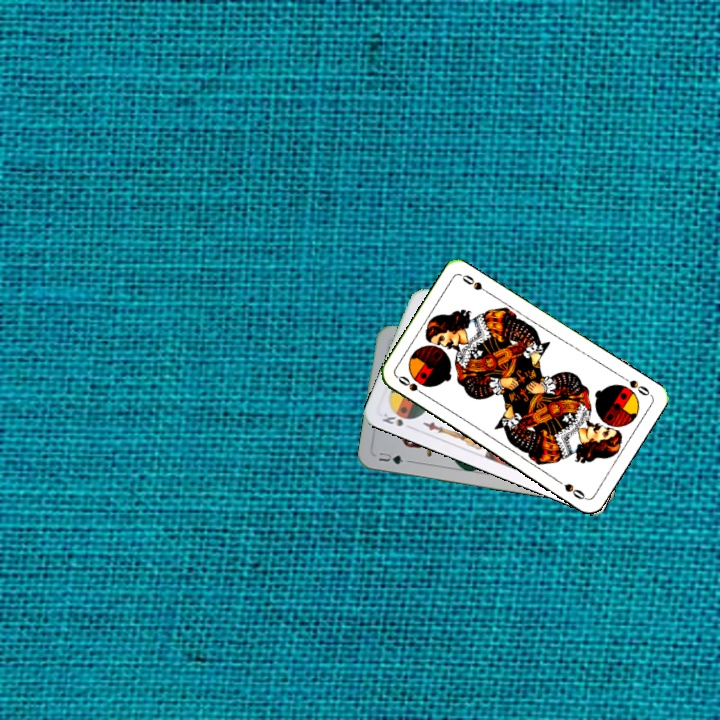GU: (375, 448, 412, 467)
SK: (378, 409, 416, 432)
SO: (393, 372, 430, 399), (617, 372, 653, 398)
